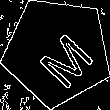M_NW: (24, 17, 91, 86)
